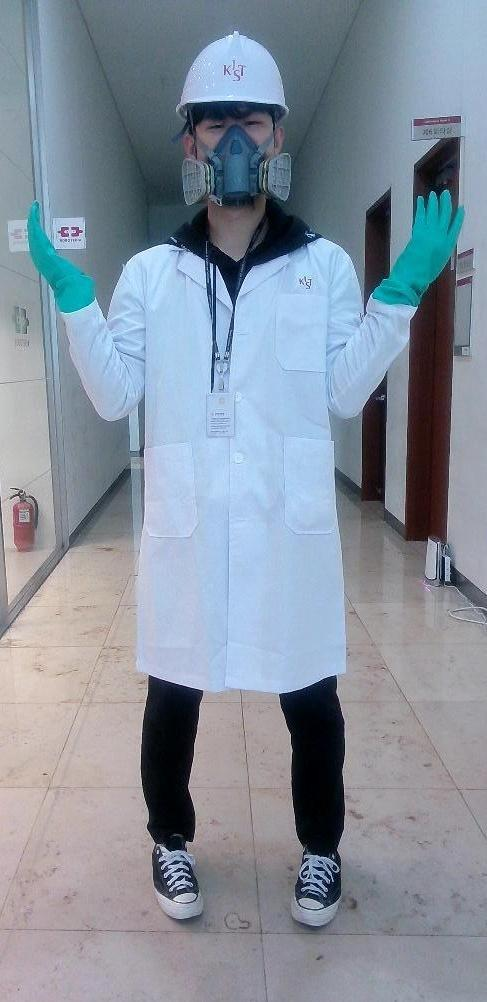lab_coat: (125, 248, 356, 665)
